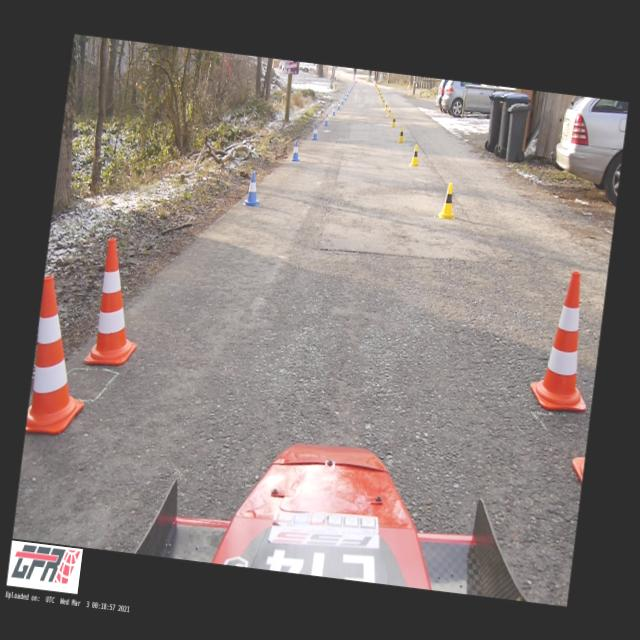blue_cone: (244, 172, 262, 206), (291, 139, 301, 161), (311, 124, 319, 140), (324, 114, 329, 125), (331, 105, 336, 115), (337, 100, 341, 110), (341, 97, 344, 104)
large_orange_cone: (26, 275, 98, 436), (528, 268, 602, 412), (84, 237, 148, 367)
yellow_cone: (438, 181, 458, 218), (410, 143, 420, 166), (398, 126, 405, 142), (391, 114, 397, 126), (386, 106, 392, 117), (383, 102, 388, 110), (382, 98, 384, 105)
